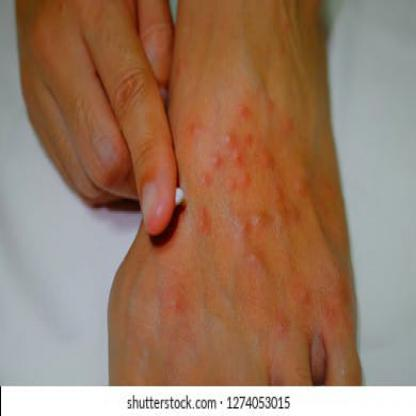Fire ant: (162, 113, 293, 242), (256, 328, 306, 395), (198, 249, 237, 334), (138, 338, 167, 386), (238, 247, 267, 287), (234, 368, 252, 413), (169, 252, 187, 296), (239, 44, 251, 74)
